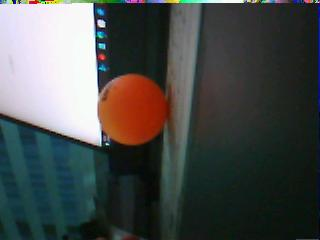oball: (97, 74, 168, 145)
